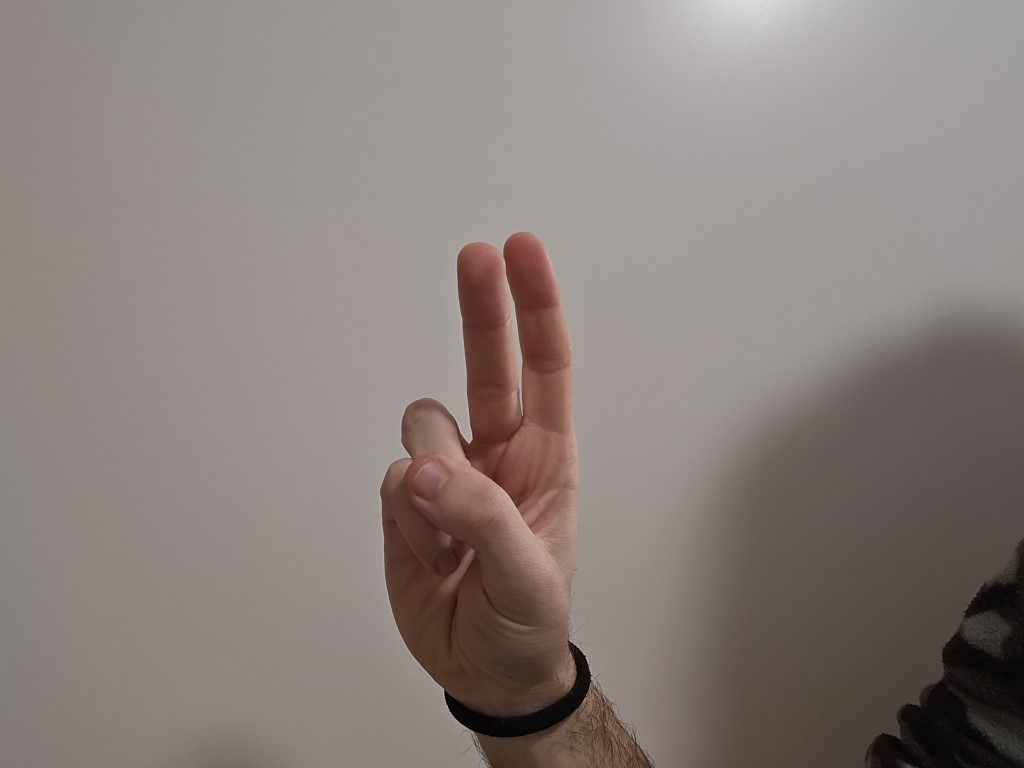r: (336, 219, 616, 679)
